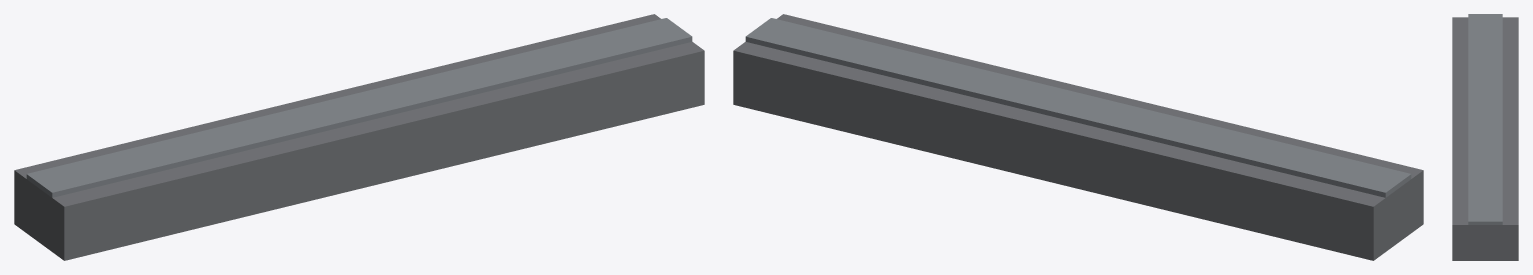
Rendered from Concrete Barrier_1.fbx.
3 renders of one model, left to right at view 1: azimuth 30°, elevation 25°; view 2: azimuth 150°, elevation 25°; view 3: azimuth 270°, elevation 25°, orthographic. The views are drawn at different scales.
Visible parts, largest first — view 1: Concrete Barrier_1; view 2: Concrete Barrier_1; view 3: Concrete Barrier_1.
Part boxes in pixels (left/top/right/bottom): Concrete Barrier_1: left=14, top=14, right=704, bottom=260; Concrete Barrier_1: left=733, top=14, right=1423, bottom=260; Concrete Barrier_1: left=1452, top=14, right=1518, bottom=260.
Size of the model in its own units: 588 by 51.97 by 79.57.
